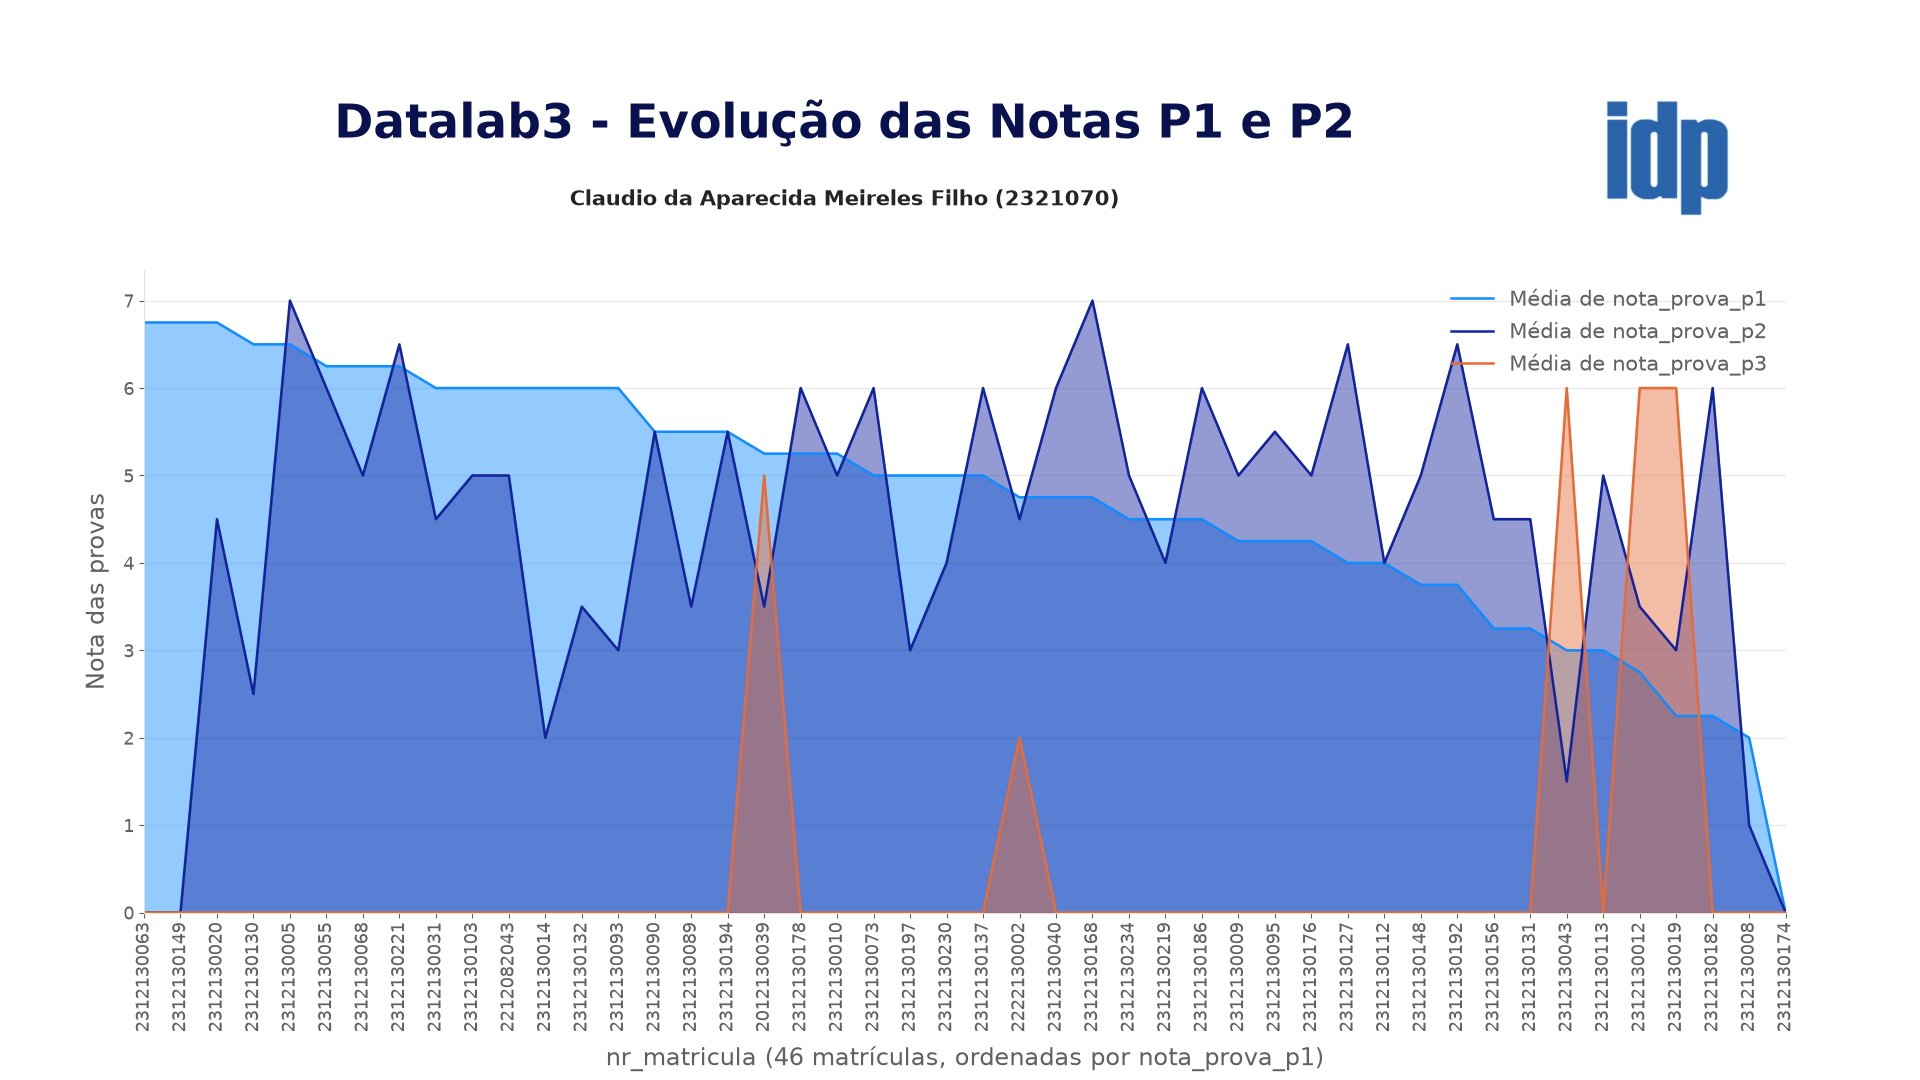

The page's visual inventory and layout, read from the dashboard file:
{"tool":"powerbi","page":{"name":"P4-Evolução das Notas","canvas":[1920,1080],"ordinal":3},"visuals":[{"type":"textbox","box":[218,108,1382,72],"z":0},{"type":"image","box":[1583.5,86.9,168.3,139.3],"z":1000},{"type":"areaChart","fields":{"Category":["dados.nr_matricula"],"Y":["Avg(dados.nota_prova_p1)","Avg(dados.nota_prova_p2)","Avg(dados.nota_prova_p3)"]},"box":[82,252,1766,750],"z":1001},{"type":"textbox","box":[436.1,179.2,960.9,47.1],"z":1002}]}

Visuals, with their boxes in screenshot pixels (x1, y1, x2, y2), scaled from the page's 1920x1080 canvas onto the 1920x1080 screenshot:
textbox: x1=218 y1=108 x2=1600 y2=180
image: x1=1584 y1=87 x2=1752 y2=226
areaChart - dados.nr_matricula x Avg(dados.nota_prova_p1): x1=82 y1=252 x2=1848 y2=1002
textbox: x1=436 y1=179 x2=1397 y2=226
